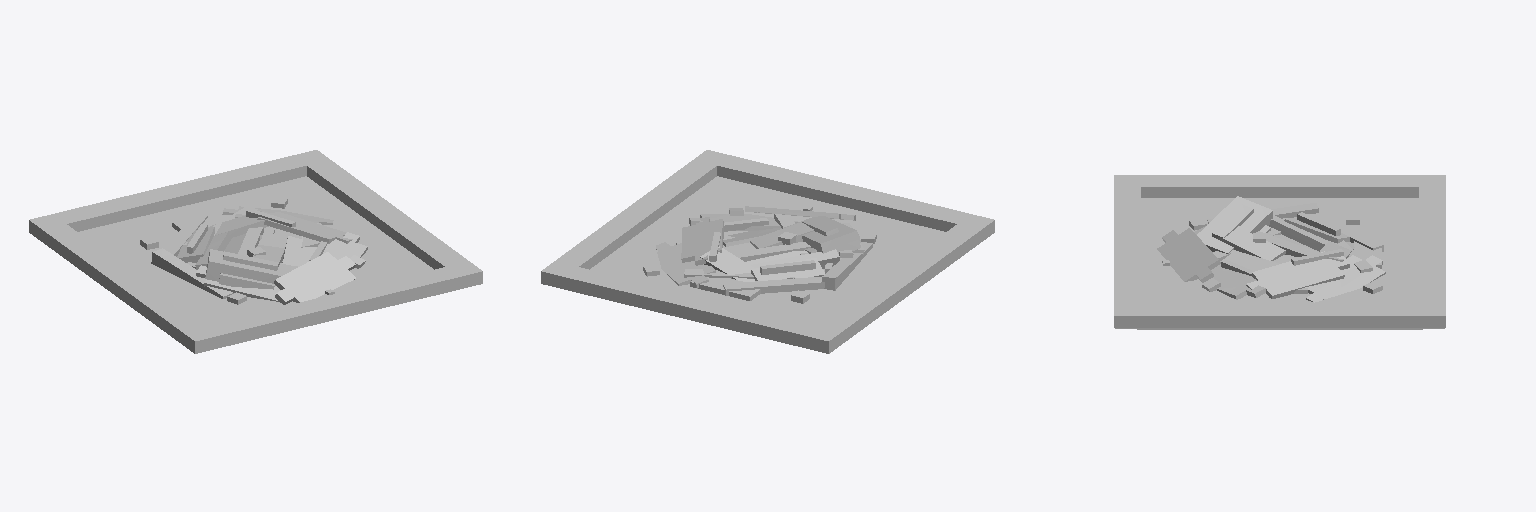
Rendered from mixed0.obj.
The picture shows the model from 3 angles: view 1: azimuth 30°, elevation 25°; view 2: azimuth 150°, elevation 25°; view 3: azimuth 270°, elevation 25°; orthographic projection.
Visible parts, largest first — view 1: Box001, Plane070, Plane051, Plane045, Plane046, Plane043, Plane042, Plane041, Plane048, Plane053, Plane038, Plane029 (+1 smaller); view 2: Box001, Plane070, Plane045, Plane046, Plane028, Plane038, Plane043, Plane053, Plane040, Plane049, Plane033, Plane041 (+3 smaller); view 3: Box001, Plane070, Plane046, Plane045, Plane051, Plane028, Plane049, Plane041, Plane032, Plane038, Plane048.
Part boxes in pixels (x1,y1,x2,y2): Box001: (29, 150, 482, 353); Plane070: (78, 176, 433, 325); Plane051: (274, 252, 355, 304); Plane045: (205, 249, 291, 289); Plane046: (257, 210, 352, 243); Plane043: (151, 248, 233, 298); Plane042: (196, 265, 280, 301); Plane041: (323, 232, 367, 259); Plane048: (282, 236, 316, 266); Plane053: (208, 211, 268, 237); Plane038: (165, 214, 207, 256); Plane029: (177, 227, 214, 262); Box001: (541, 150, 994, 353); Plane070: (590, 176, 945, 325); Plane045: (784, 216, 860, 253); Plane046: (681, 217, 723, 265); Plane028: (656, 242, 715, 288); Plane038: (723, 276, 824, 295); Plane043: (822, 242, 872, 290); Plane053: (700, 246, 755, 281); Plane040: (690, 277, 760, 300); Plane049: (750, 222, 813, 248); Plane033: (732, 242, 810, 261); Plane041: (689, 214, 797, 230); Box001: (1114, 175, 1445, 329); Plane070: (1141, 198, 1418, 303); Plane046: (1246, 251, 1349, 298); Plane045: (1197, 196, 1272, 253); Plane051: (1157, 228, 1220, 282); Plane028: (1305, 255, 1385, 302); Plane049: (1216, 226, 1285, 260); Plane041: (1211, 261, 1265, 299); Plane032: (1269, 215, 1328, 251); Plane038: (1307, 212, 1383, 251); Plane048: (1222, 250, 1278, 271).
Bounding box in the file's own units: 0.744 × 0.1323 × 0.744.